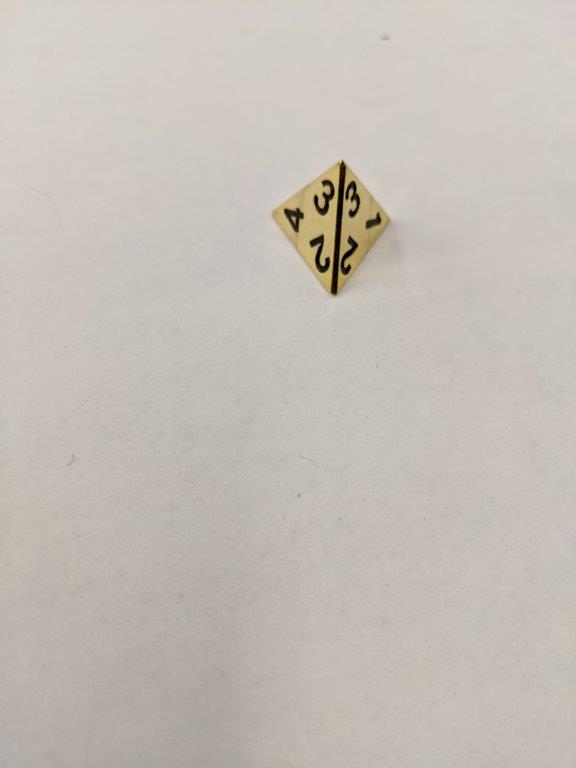d4-3: (270, 158, 393, 299)
